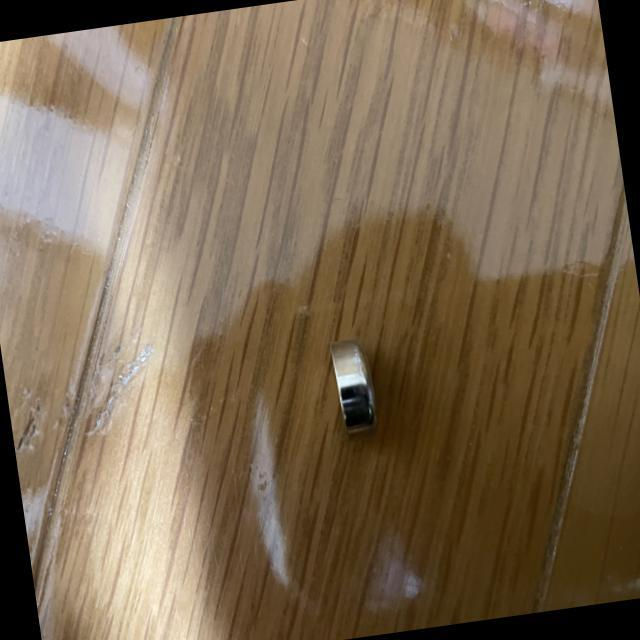COIN: (328, 337, 380, 430)
